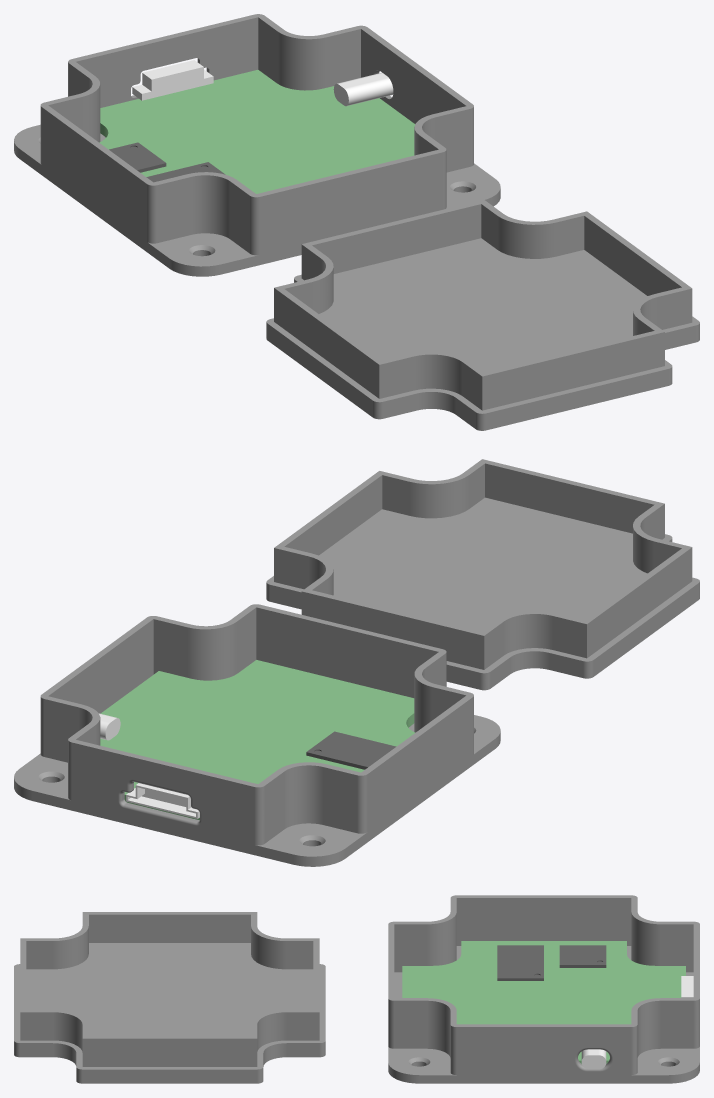
The model's file is plata.glb.
3 views of the same model, one above another, from view 1: azimuth 30°, elevation 25°; view 2: azimuth 150°, elevation 25°; view 3: azimuth 270°, elevation 25° (orthographic). The views are drawn at different scales.
Visible parts, largest first — view 1: Body8, Body1, Body9, Body13, Body12, Body11; view 2: Body8, Body1, Body9, Body10, Body13; view 3: Body8, Body1, Body9, Body10, Body11, Body12.
Part boxes in pixels (x1,y1,x2,y2): Body8: (266, 200, 699, 430); Body1: (14, 14, 500, 276); Body9: (99, 70, 415, 193); Body13: (132, 60, 213, 100); Body12: (333, 72, 393, 106); Body11: (109, 142, 166, 172); Body8: (266, 459, 699, 690); Body1: (14, 604, 500, 866); Body9: (100, 660, 415, 820); Body10: (306, 731, 396, 769); Body13: (126, 783, 199, 818); Body8: (14, 912, 325, 1083); Body1: (388, 895, 699, 1083); Body9: (402, 941, 685, 1063); Body10: (497, 945, 543, 980); Body11: (559, 945, 606, 967); Body12: (581, 1049, 606, 1069).
Bounding box in the file's own units: 3.45 × 0.6763 × 7.44.
